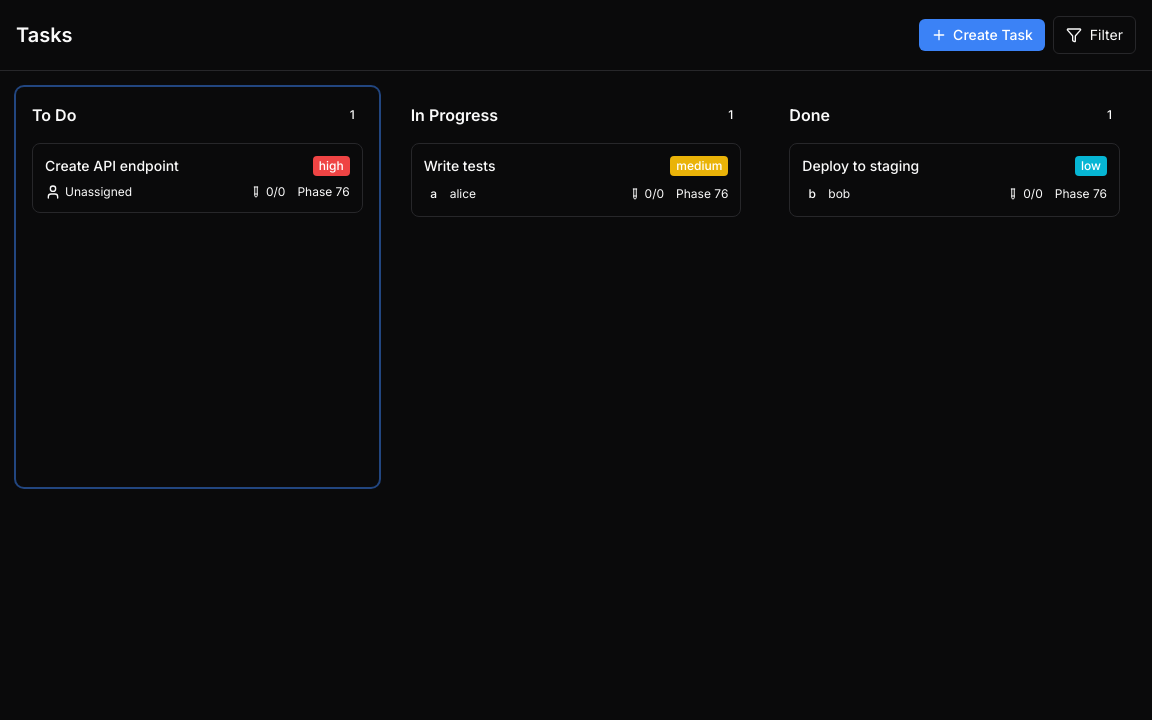
Test case: TasksPage › detail panel shows Complete button for in-progress tasks
This screenshot has width=1152, height=720.
Click the heading "Write tests" at (460,166), box left=424, top=156, right=496, bottom=176
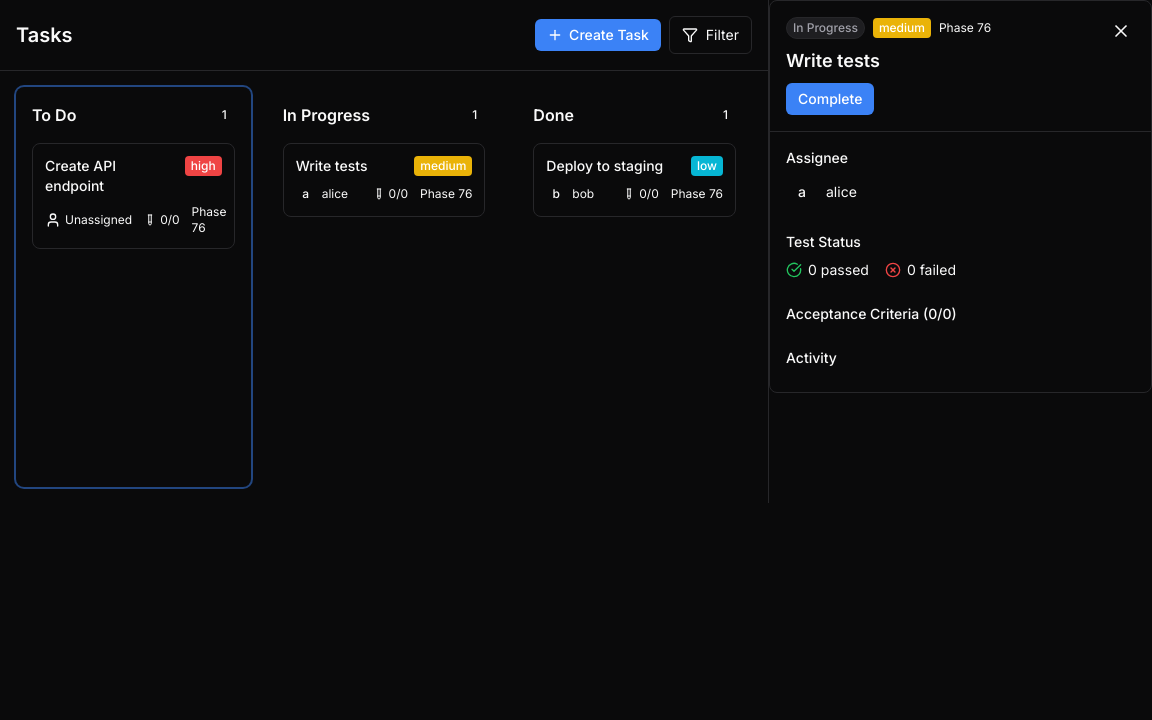
Result: the text "Complete" is shown at left=798, top=89, right=862, bottom=109
